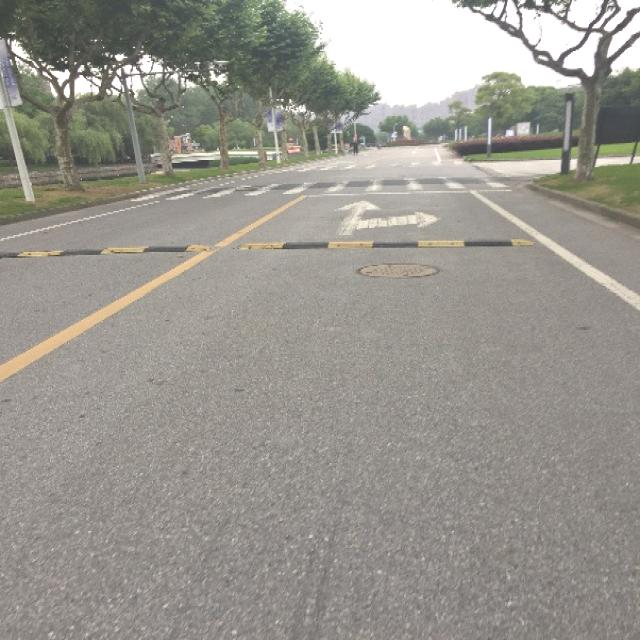Speed Bump: (234, 236, 540, 252), (0, 240, 212, 258)
